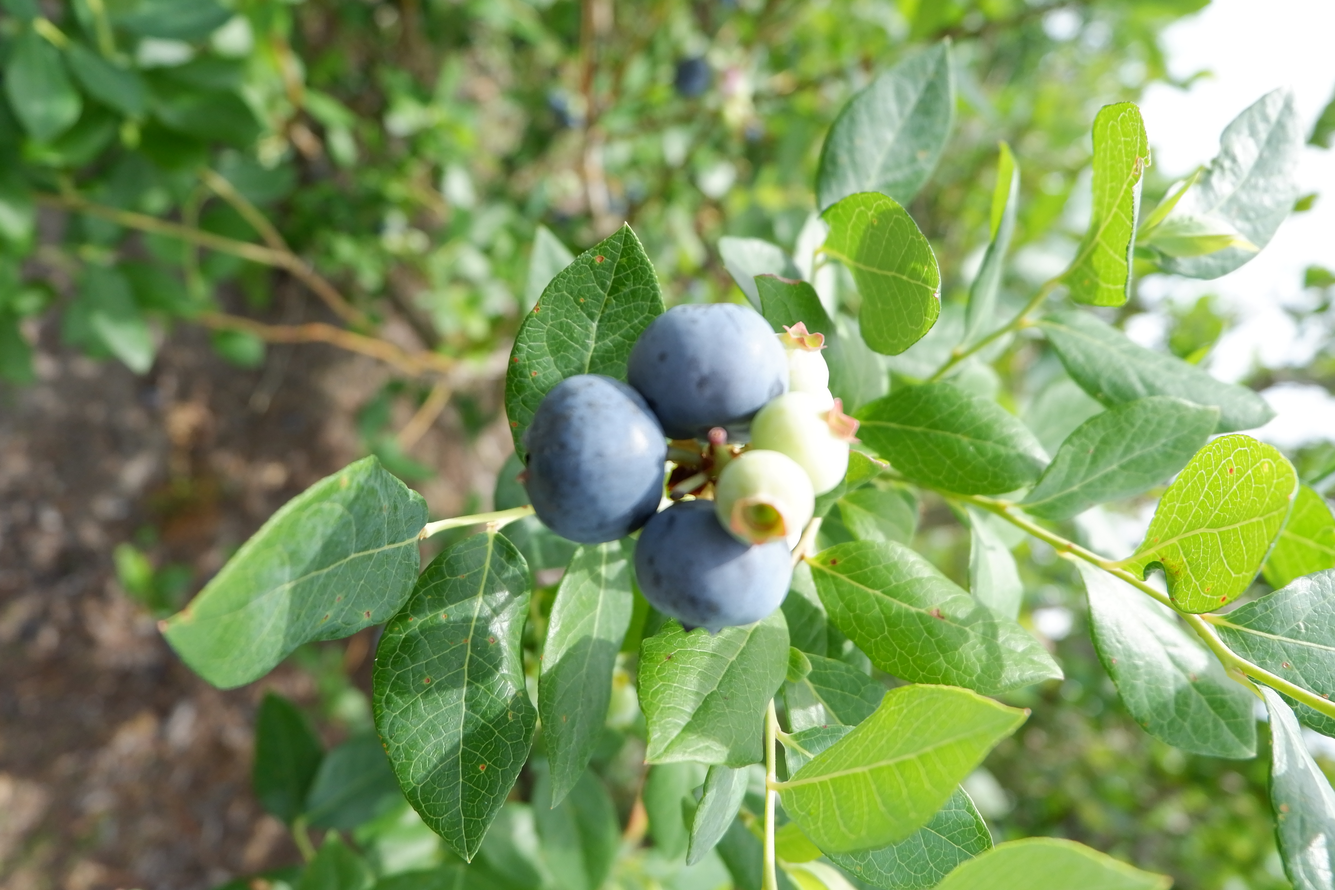Immature: (755, 393, 854, 494), (719, 450, 811, 543), (779, 324, 828, 398)
Mature: (526, 378, 663, 539), (637, 502, 791, 629), (630, 307, 783, 434)
